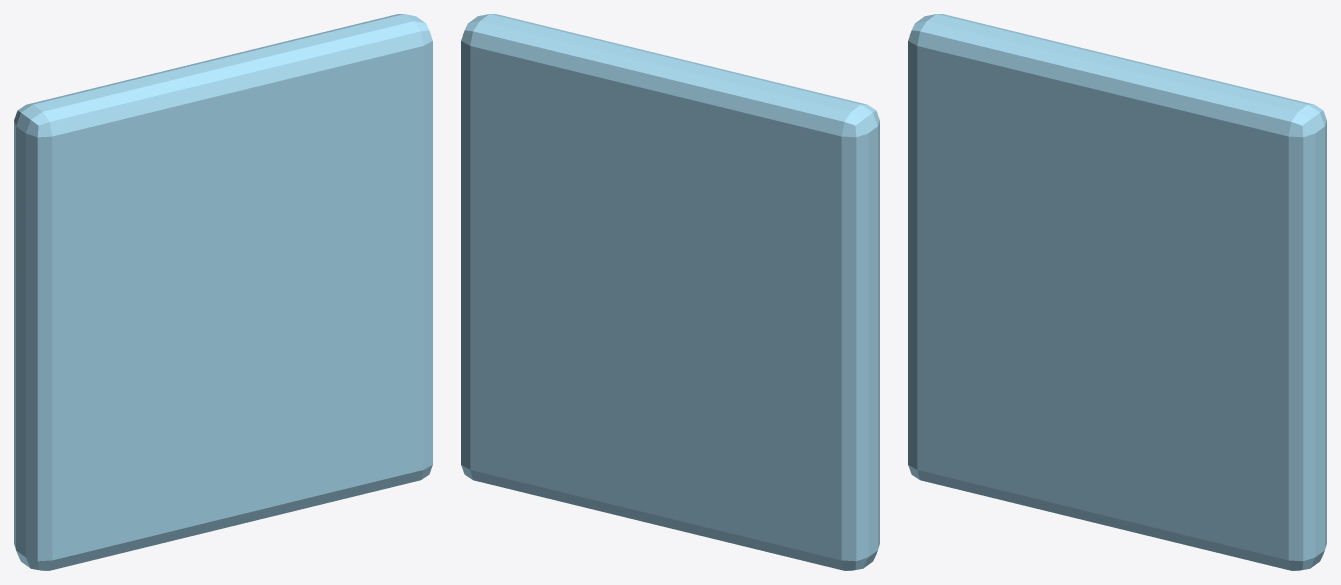
3 views of the same model, side by side, from view 1: azimuth 30°, elevation 25°; view 2: azimuth 150°, elevation 25°; view 3: azimuth 330°, elevation 25° (orthographic).
Visible parts, largest first — view 1: node; view 2: node; view 3: node.
Part boxes in pixels (box(x1,y1,x2,y2)): node: box(14, 14, 432, 570); node: box(461, 14, 879, 570); node: box(908, 14, 1326, 570).
Bounding box in the file's own units: 0.024 × 0.003 × 0.026.
